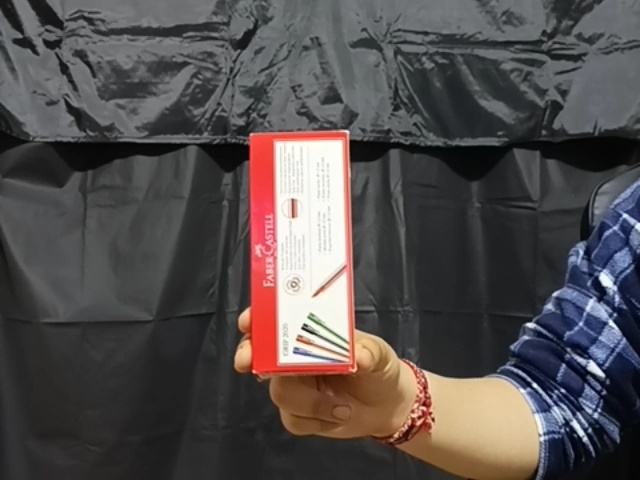xd: (248, 129, 357, 376)
